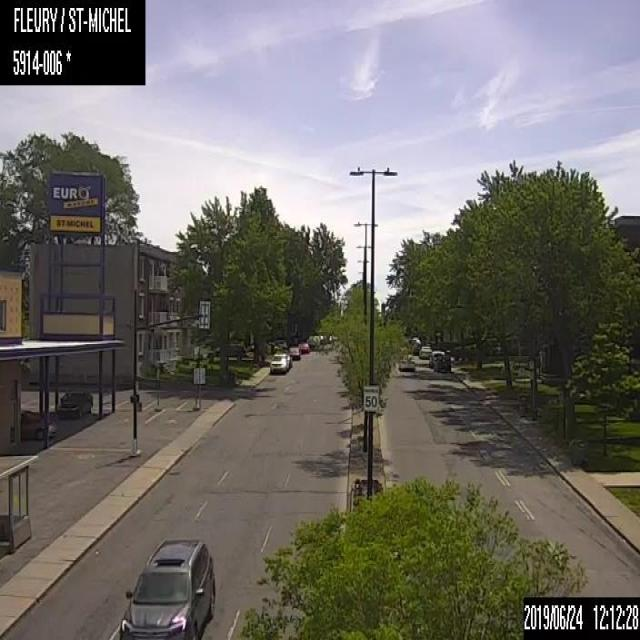vehicle: (117, 533, 215, 639), (20, 410, 58, 440), (56, 388, 92, 418), (268, 350, 289, 373), (398, 351, 416, 372), (434, 352, 452, 371), (428, 349, 442, 366), (418, 344, 432, 360), (289, 344, 301, 361), (300, 341, 310, 355)
